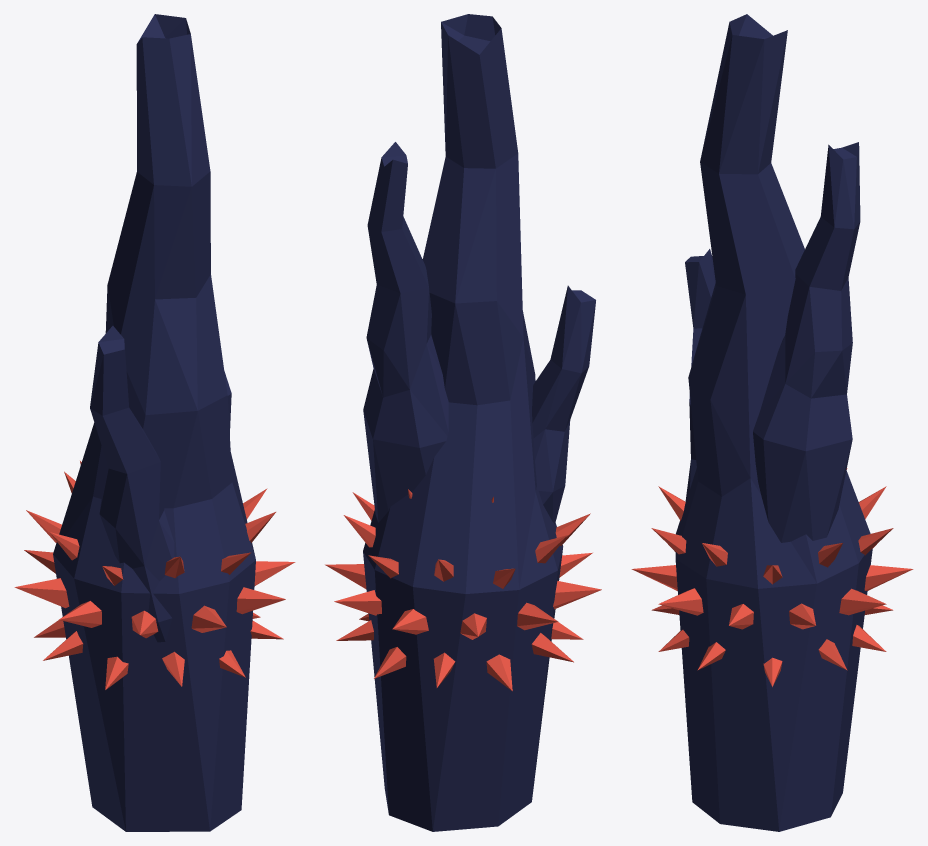
Rendered from SeaFloor_Assets.fbx.
3 renders of one model, left to right at view 1: azimuth 30°, elevation 25°; view 2: azimuth 150°, elevation 25°; view 3: azimuth 270°, elevation 25°, orthographic.
Parts seen in each view (by area): view 1: Funnel, Icosphere.001; view 2: Funnel, Icosphere.001; view 3: Funnel, Icosphere.001.
Part boxes in pixels (box(x1,y1,x2,y2)): Funnel: box(53, 14, 255, 831); Icosphere.001: box(14, 461, 295, 689); Funnel: box(363, 14, 595, 831); Icosphere.001: box(325, 489, 601, 691); Funnel: box(675, 14, 872, 831); Icosphere.001: box(631, 468, 913, 686).
Bounding box in the file's own units: 673 × 2128 × 708.
